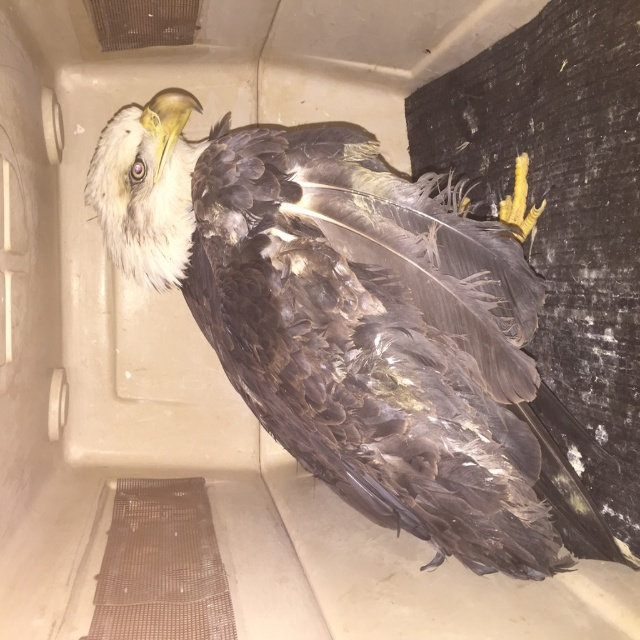Eagle: (82, 89, 640, 583)
